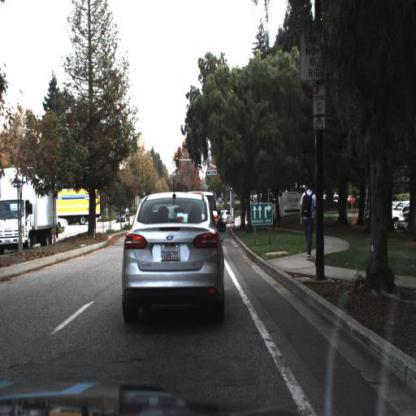car: (118, 190, 230, 330), (207, 191, 221, 229), (118, 207, 130, 223), (116, 210, 129, 224), (57, 215, 68, 229)
pedestrian: (298, 183, 317, 262)
trafficLight: (176, 157, 181, 168)
trafficLight-RedLeft: (174, 157, 182, 173)
truck: (1, 166, 56, 248), (57, 190, 103, 224)
